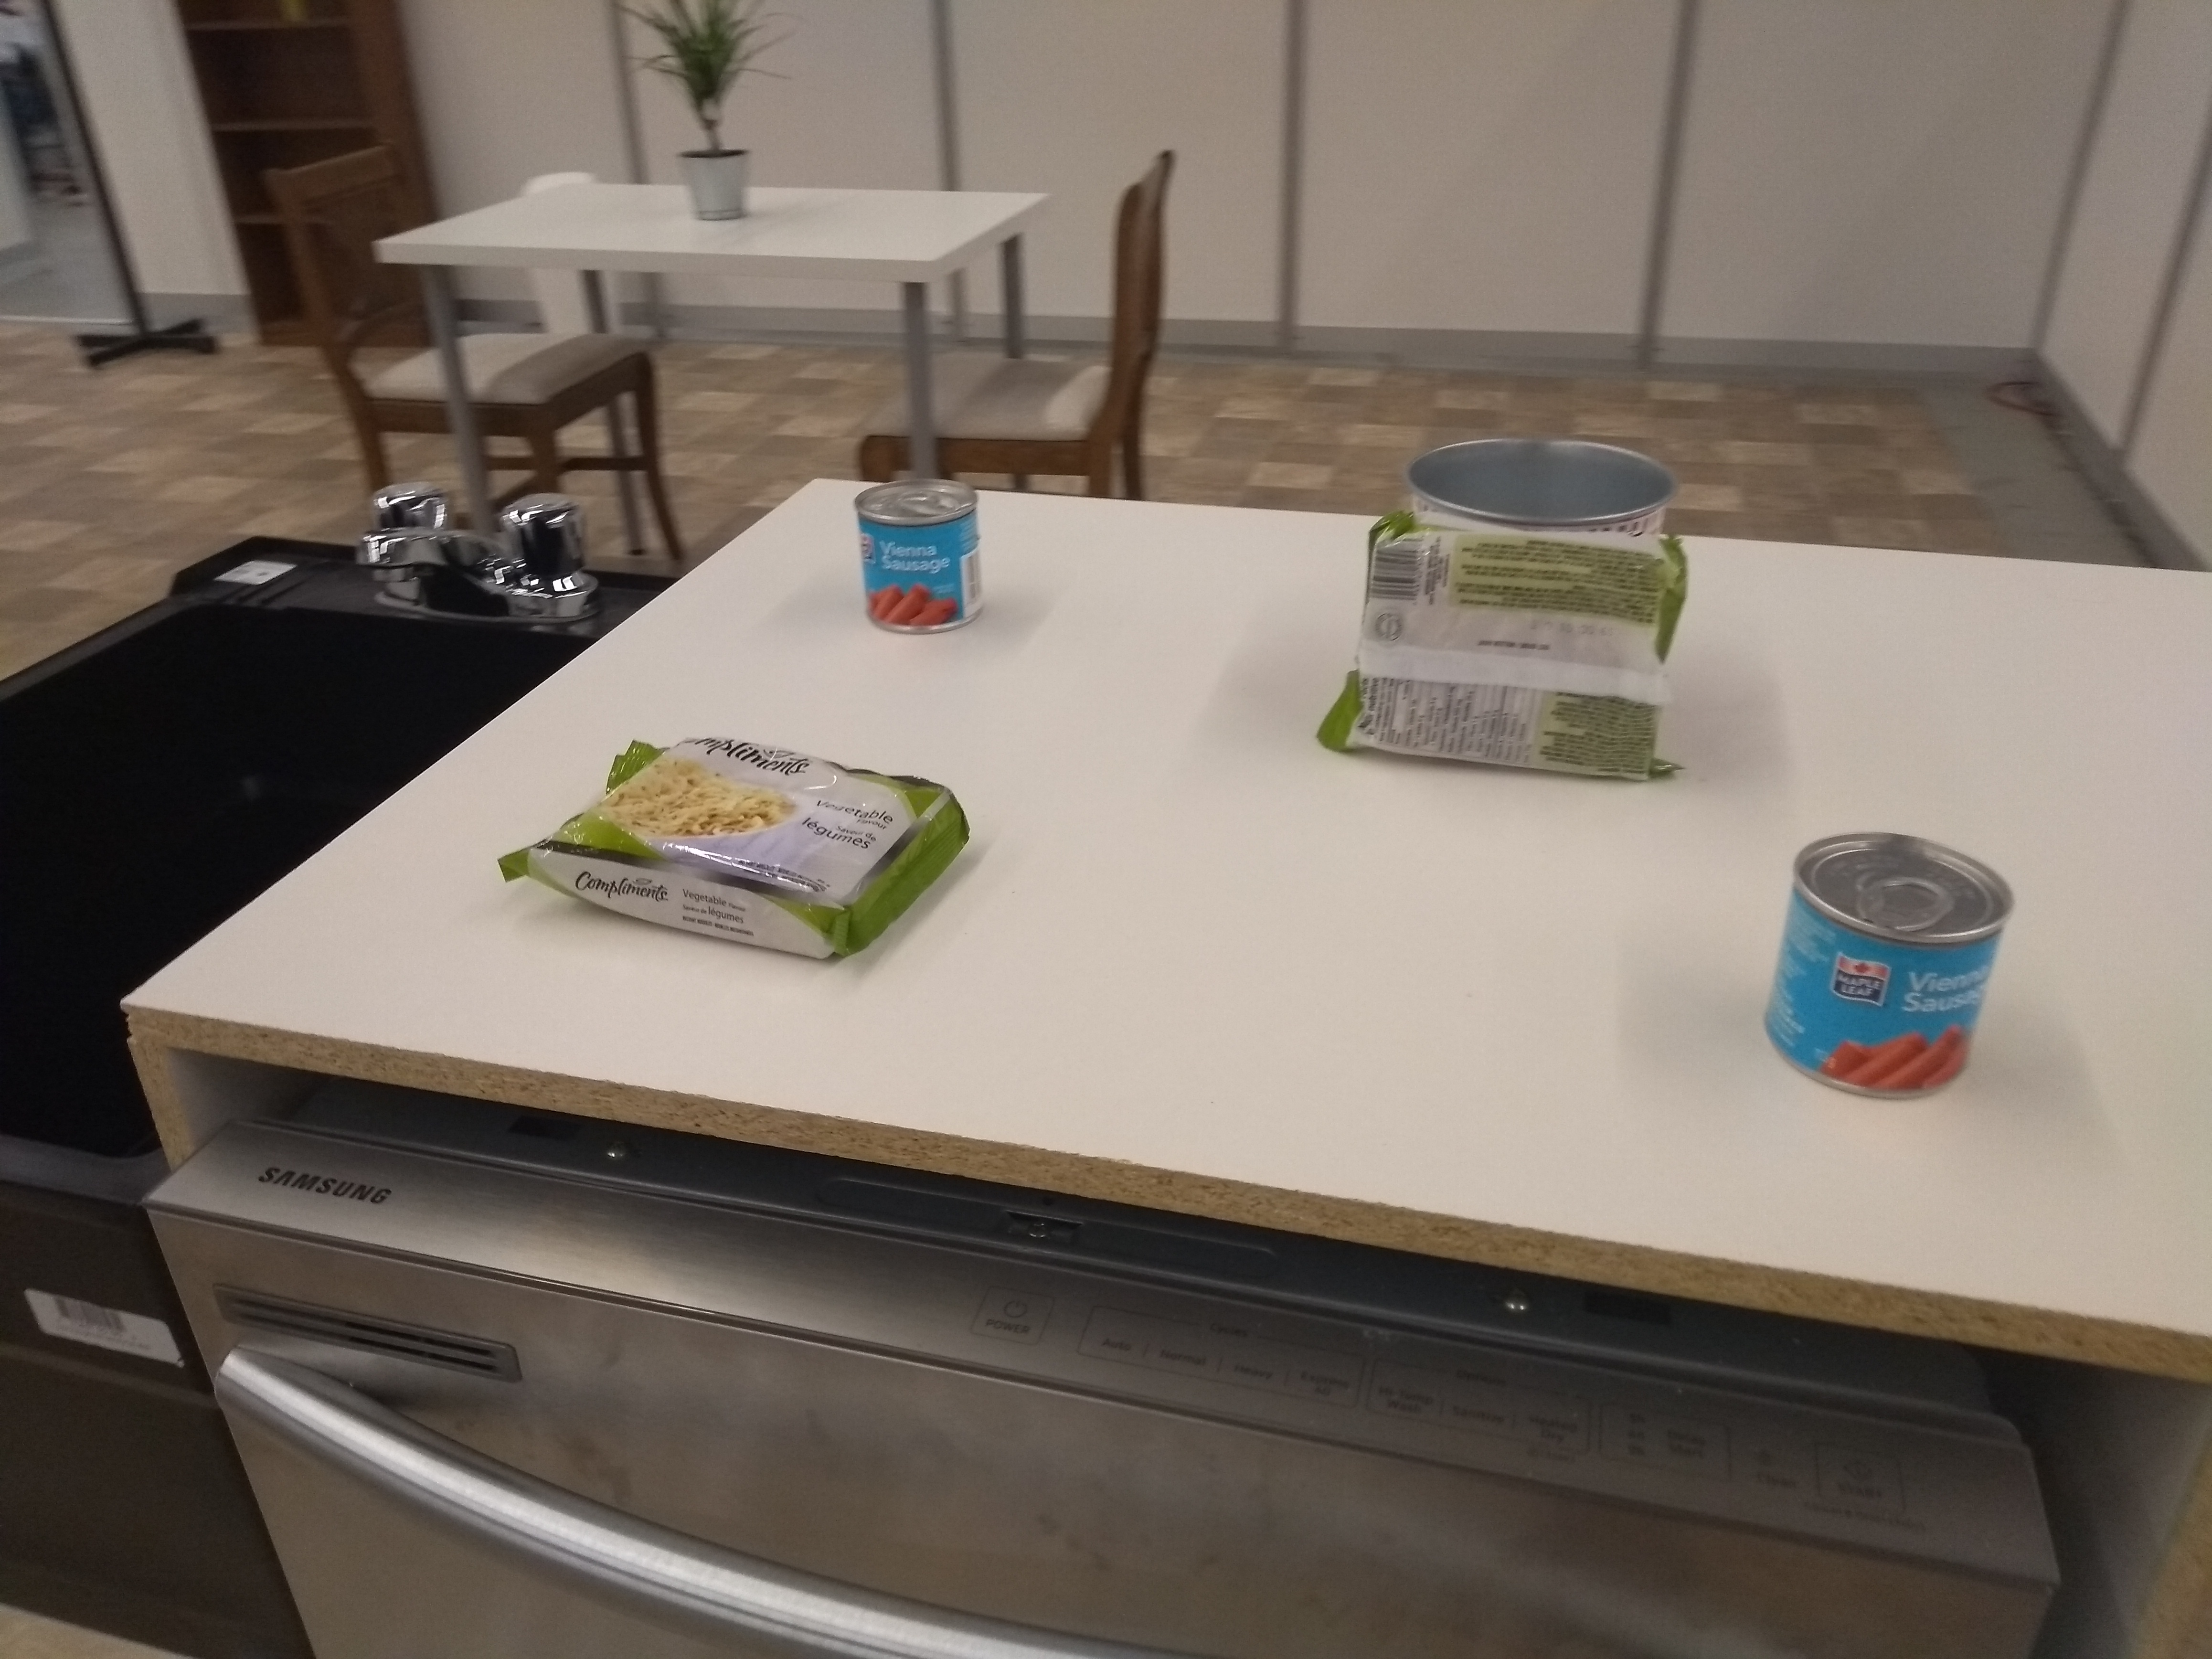noodles: (488, 721, 979, 974), (1303, 505, 1703, 795)
sausages: (1745, 823, 2024, 1115), (850, 471, 993, 648)
